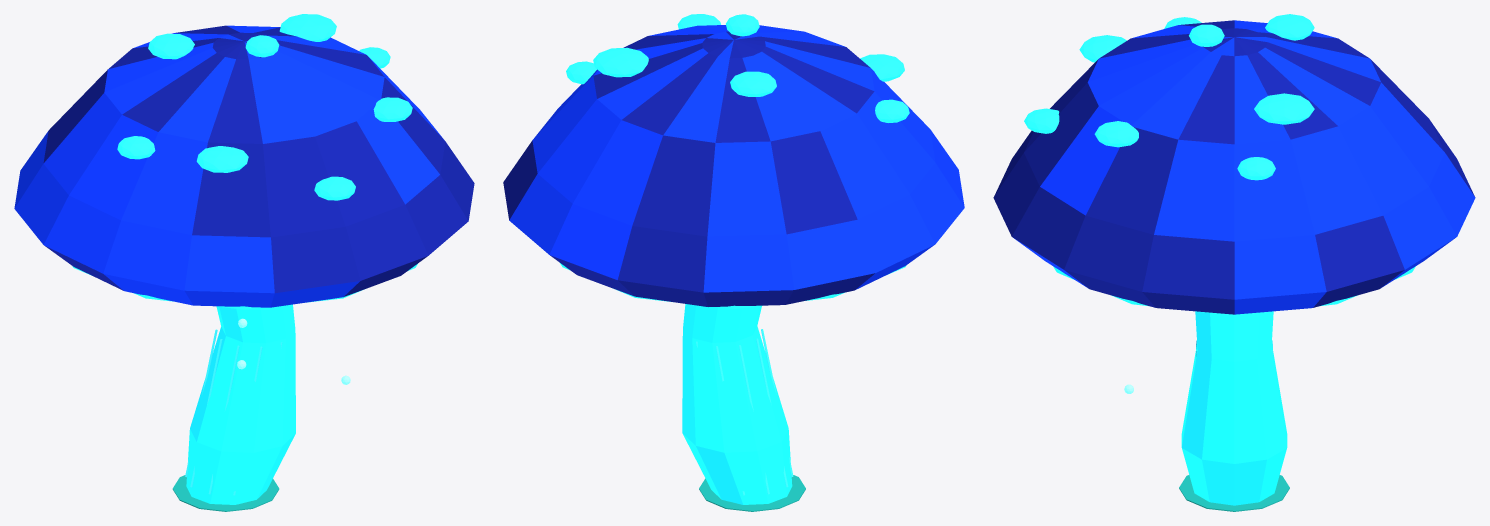
The model's file is forest_mushroom_blue.glb.
3 views of the same model, side by side, from view 1: azimuth 30°, elevation 25°; view 2: azimuth 150°, elevation 25°; view 3: azimuth 270°, elevation 25° (orthographic). The views are drawn at different scales.
Visible parts, largest first — view 1: Broad faceted mushroom cap, Curving luminous mushroom stem, Bioluminescent cap spot.004, Mushroom cyan ground bounce, Bioluminescent cap spot, Bioluminescent cap spot.003, Bioluminescent cap spot.002, Bioluminescent cap spot.001, Bioluminescent cap spot.006, Bioluminescent cap spot.005; view 2: Broad faceted mushroom cap, Curving luminous mushroom stem, Bioluminescent cap spot.004, Mushroom cyan ground bounce, Bioluminescent cap spot.003, Bioluminescent cap spot, Bioluminescent cap spot.006, Bioluminescent cap spot.005, Bioluminescent cap spot.007; view 3: Broad faceted mushroom cap, Curving luminous mushroom stem, Bioluminescent cap spot.004, Mushroom cyan ground bounce, Bioluminescent cap spot.003, Bioluminescent cap spot.001, Bioluminescent cap spot, Bioluminescent cap spot.002, Bioluminescent cap spot.007, Bioluminescent cap spot.005.
Part boxes in pixels (left/top/right/bottom): Broad faceted mushroom cap: left=14, top=25, right=474, bottom=307; Curving luminous mushroom stem: left=186, top=304, right=295, bottom=504; Bioluminescent cap spot.004: left=279, top=14, right=336, bottom=41; Mushroom cyan ground bounce: left=172, top=475, right=279, bottom=511; Bioluminescent cap spot: left=196, top=146, right=248, bottom=172; Bioluminescent cap spot.003: left=148, top=33, right=194, bottom=59; Bioluminescent cap spot.002: left=314, top=176, right=355, bottom=200; Bioluminescent cap spot.001: left=373, top=97, right=412, bottom=121; Bioluminescent cap spot.006: left=117, top=136, right=155, bottom=159; Bioluminescent cap spot.005: left=245, top=35, right=279, bottom=57; Broad faceted mushroom cap: left=503, top=25, right=964, bottom=306; Curving luminous mushroom stem: left=682, top=304, right=792, bottom=504; Bioluminescent cap spot.004: left=593, top=47, right=648, bottom=77; Mushroom cyan ground bounce: left=699, top=475, right=805, bottom=511; Bioluminescent cap spot.003: left=730, top=71, right=776, bottom=96; Bioluminescent cap spot: left=860, top=54, right=904, bottom=81; Bioluminescent cap spot.006: left=875, top=99, right=909, bottom=122; Bioluminescent cap spot.005: left=726, top=14, right=759, bottom=36; Bioluminescent cap spot.007: left=566, top=61, right=596, bottom=84; Broad faceted mushroom cap: left=993, top=20, right=1475, bottom=314; Curving luminous mushroom stem: left=1181, top=311, right=1287, bottom=505; Bioluminescent cap spot.004: left=1254, top=93, right=1314, bottom=124; Mushroom cyan ground bounce: left=1179, top=475, right=1289, bottom=511; Bioluminescent cap spot.003: left=1265, top=14, right=1314, bottom=40; Bioluminescent cap spot.001: left=1094, top=121, right=1138, bottom=147; Bioluminescent cap spot: left=1079, top=35, right=1126, bottom=62; Bioluminescent cap spot.002: left=1024, top=108, right=1059, bottom=133; Bioluminescent cap spot.007: left=1237, top=157, right=1275, bottom=180; Bioluminescent cap spot.005: left=1189, top=24, right=1224, bottom=46.
Bounding box in the file's own units: 1.74 × 1.89 × 1.74.
